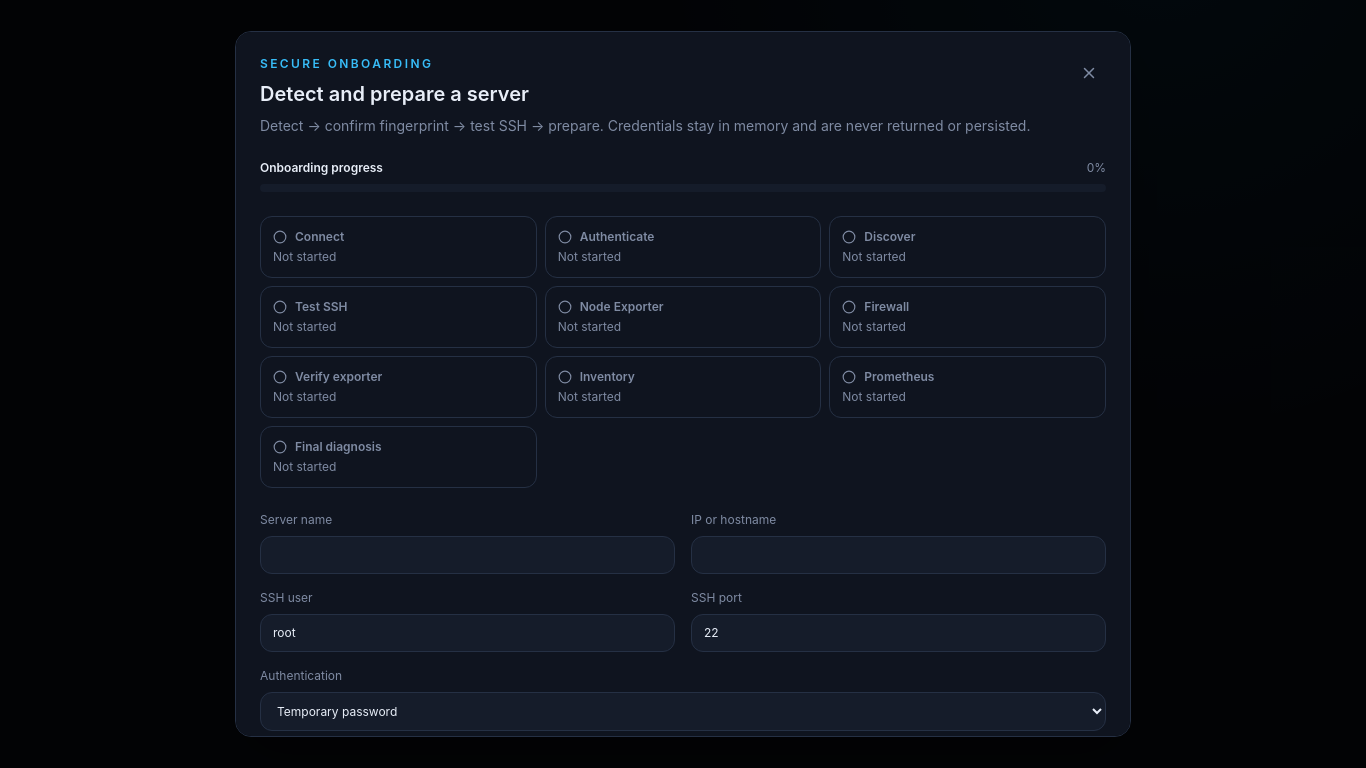
Test case: ServerOnboardingDialog recovery controls › unlocks discovery after the preflight timeout and allows a reset
Type "Live 1" into the field labelled "Server name" at x=468, y=555, box [260, 536, 675, 574]
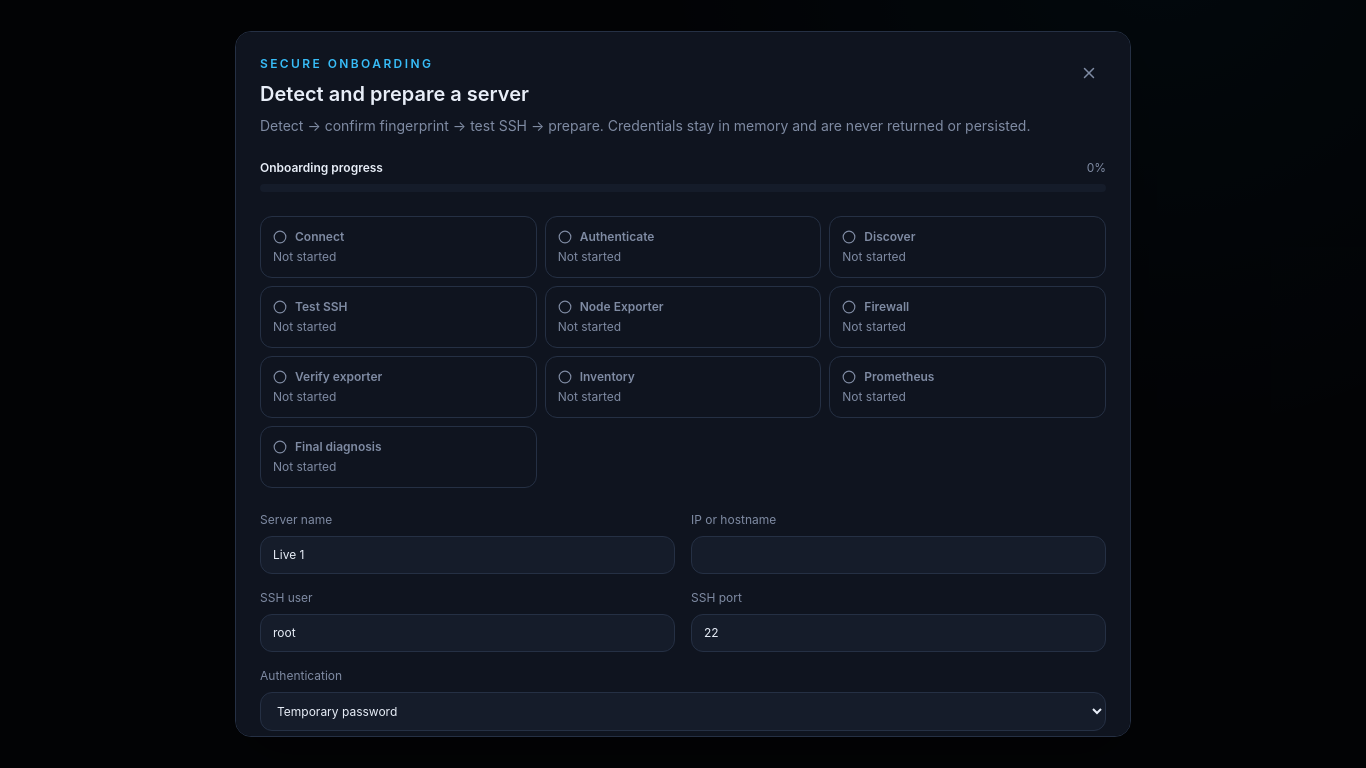
Type "203.0.113.10" into the field labelled "IP or hostname" at x=898, y=555, box [691, 536, 1106, 574]
(page scrolled)
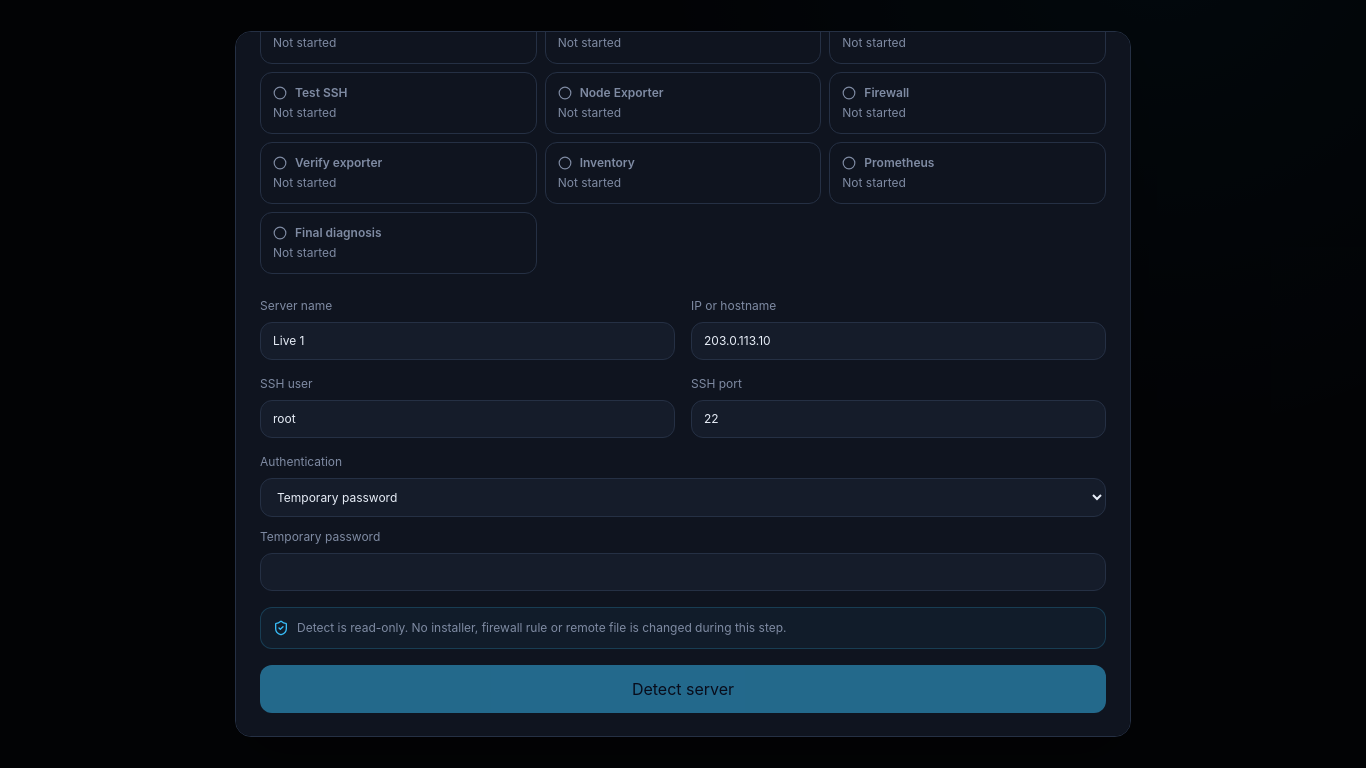
Type "temporary" into the password field labelled "Temporary password" at x=683, y=572, box [260, 553, 1106, 591]
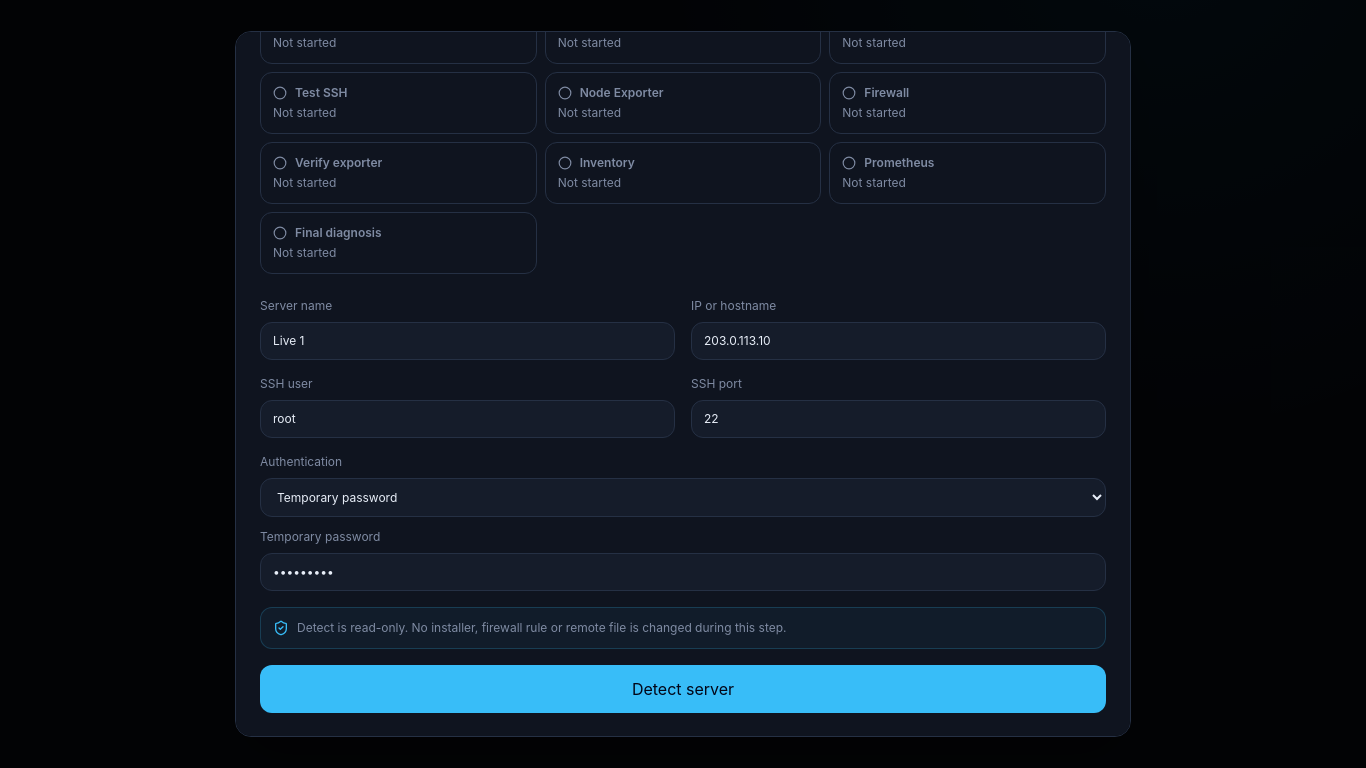
Click the button "Detect server" at x=683, y=689, box [260, 665, 1106, 713]
Wait 30000 ms
(page scrolled)
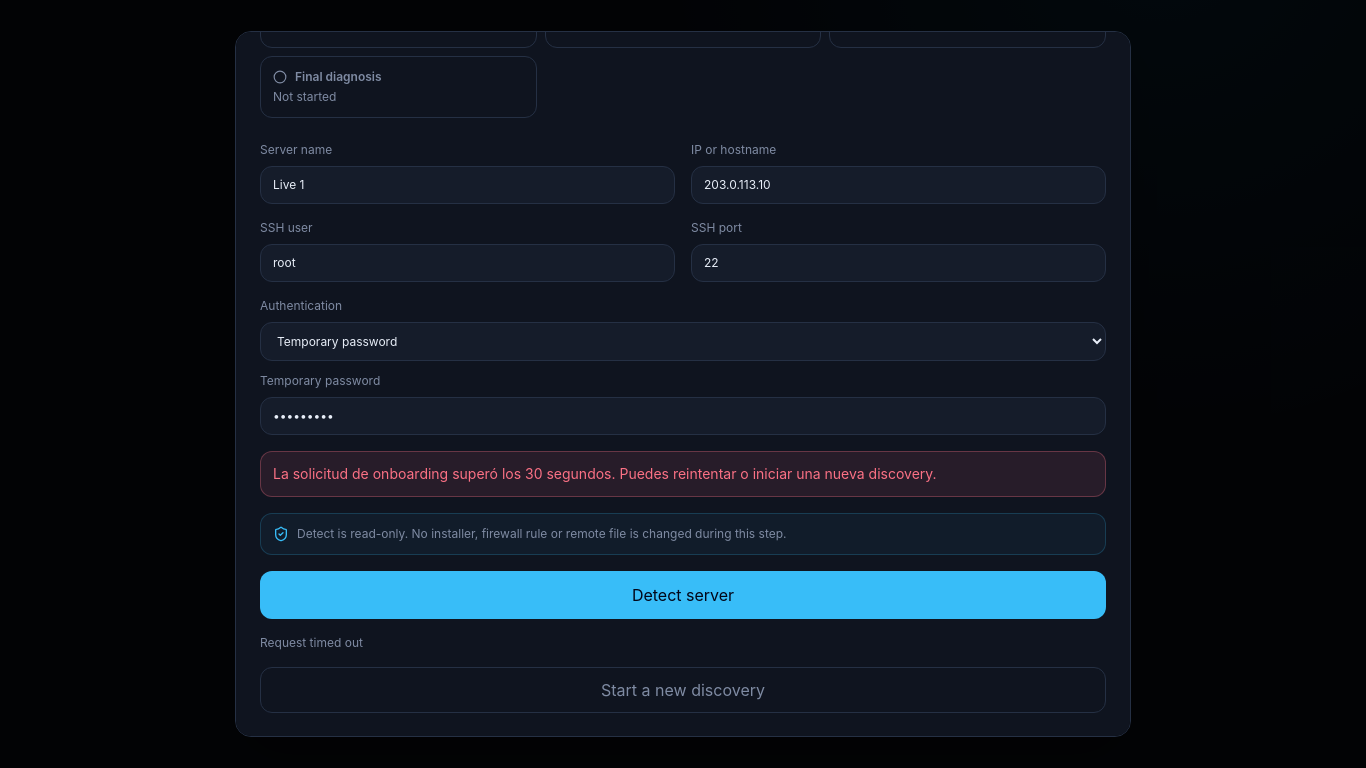
Check: the text "superó los 30 segundos" is shown, box [273, 465, 937, 482]
Check: the button "Start a new discovery" is enabled
Click the button "Start a new discovery" at x=683, y=690, box [260, 667, 1106, 713]
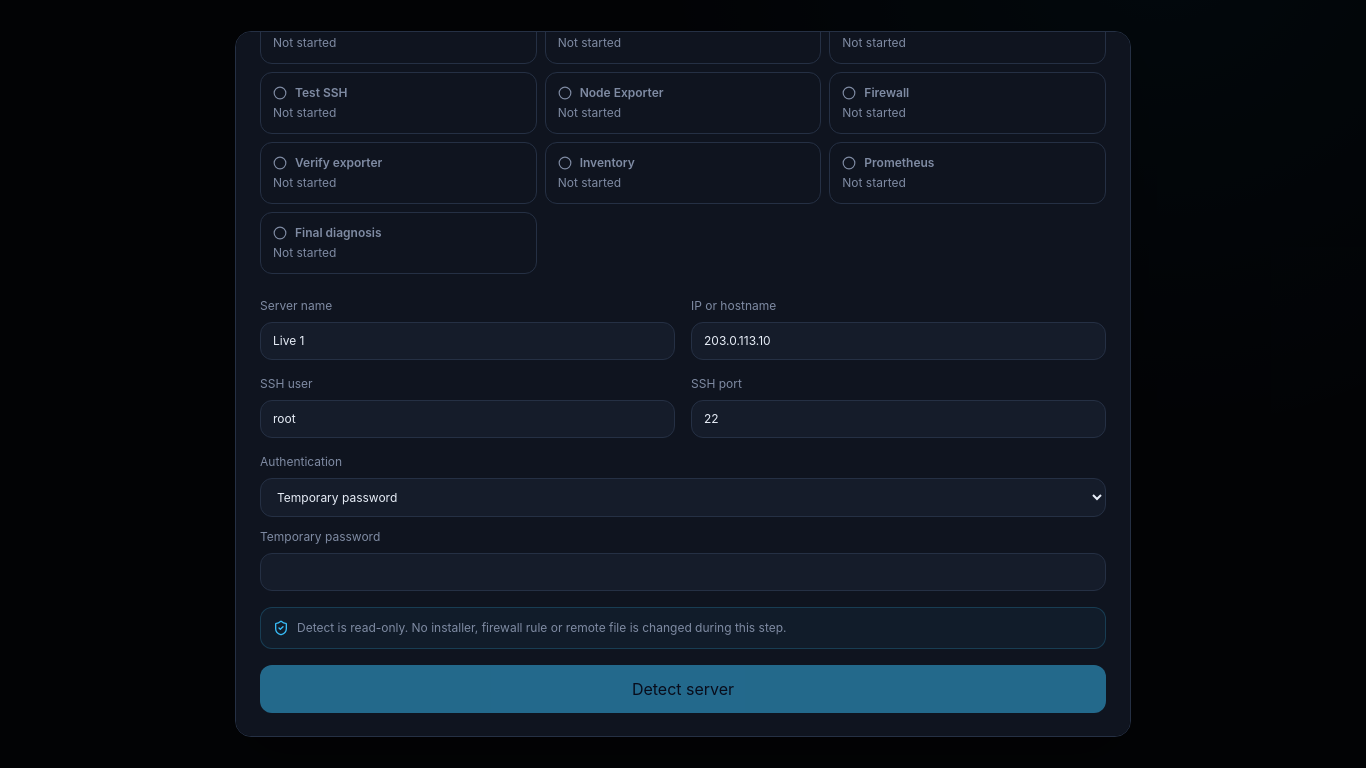
Check: the button "Detect server" is disabled, box [260, 665, 1106, 713]
Type "temporary-again" into the password field labelled "Temporary password" at x=683, y=572, box [260, 553, 1106, 591]
(page scrolled)
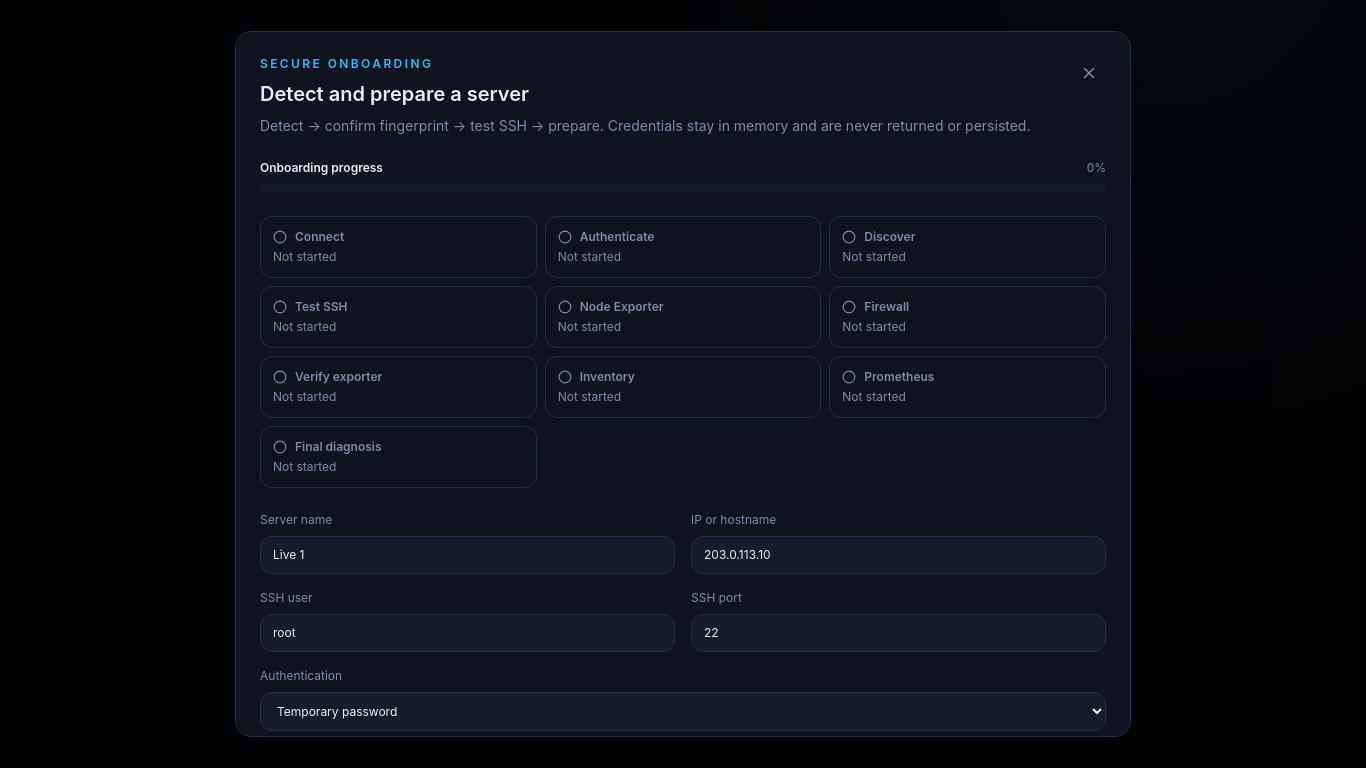
Check: the text "Not started" is shown 10 times
Check: the text "0%" is shown, box [1087, 160, 1106, 176]
